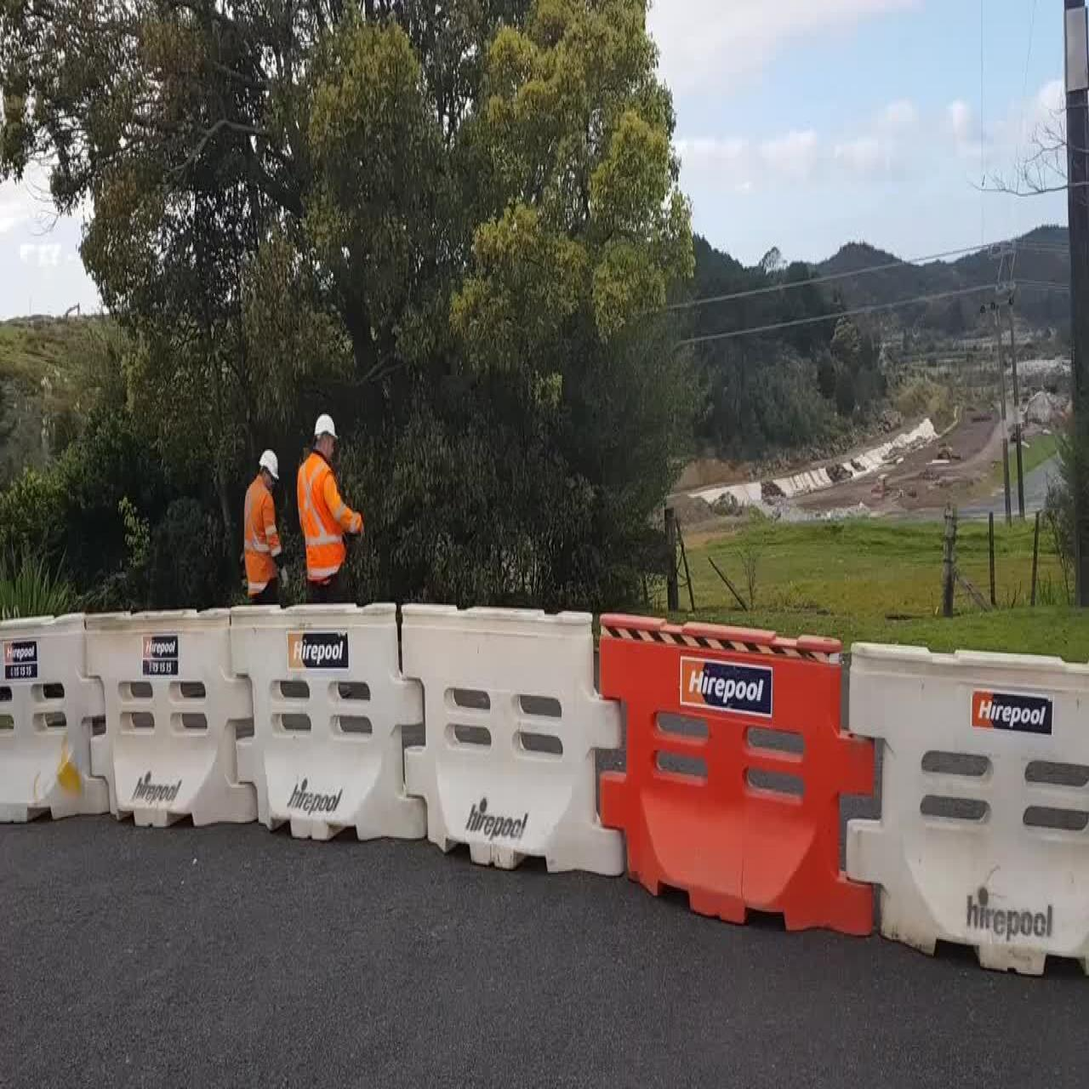NO_Safety_Vest: (297, 453, 347, 569), (241, 485, 281, 575)
Person: (292, 400, 365, 588), (237, 445, 288, 593)
